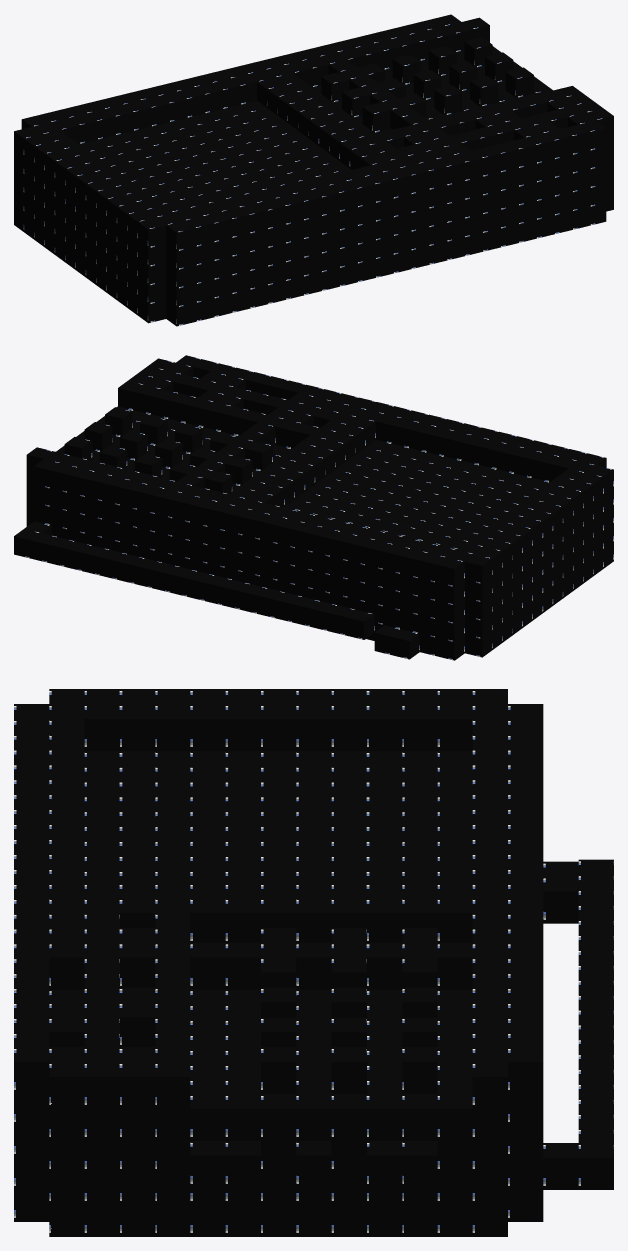
File: radio_nonna_usv.gltf
3 views of the same model, one above another, from view 1: azimuth 30°, elevation 25°; view 2: azimuth 150°, elevation 25°; view 3: azimuth 270°, elevation 25° (orthographic). The views are drawn at different scales.
Parts seen in each view (by area): view 1: Layer.1, Layer.4, Layer.2, Layer.3, Layer.5, Layer.8; view 2: Layer.1, Layer.9, Layer.3, Layer.4, Layer.2, Layer.5, Layer.6, Layer.8; view 3: Layer.1, Layer.9, Layer.6, Layer.5, Layer.2, Layer.3, Layer.4, Layer.8.
Part boxes in pixels (x1,y1,x2,y2): Layer.1: [14, 14, 613, 326]; Layer.4: [362, 67, 533, 132]; Layer.2: [321, 37, 492, 102]; Layer.3: [342, 52, 513, 117]; Layer.5: [328, 60, 428, 129]; Layer.8: [475, 111, 559, 140]; Layer.1: [26, 355, 613, 660]; Layer.9: [14, 521, 374, 639]; Layer.3: [84, 422, 252, 485]; Layer.4: [105, 407, 272, 470]; Layer.2: [64, 437, 232, 494]; Layer.5: [177, 422, 275, 487]; Layer.6: [374, 625, 419, 659]; Layer.8: [198, 371, 245, 408]; Layer.1: [14, 689, 543, 1236]; Layer.9: [543, 859, 613, 1189]; Layer.6: [190, 861, 578, 1187]; Layer.5: [190, 942, 472, 989]; Layer.2: [402, 927, 437, 1093]; Layer.3: [331, 927, 366, 1093]; Layer.4: [261, 927, 296, 1093]; Layer.8: [49, 987, 155, 1046].
Bounding box in the file's own units: 27 × 5 × 17.
1 material, 1 textured.
